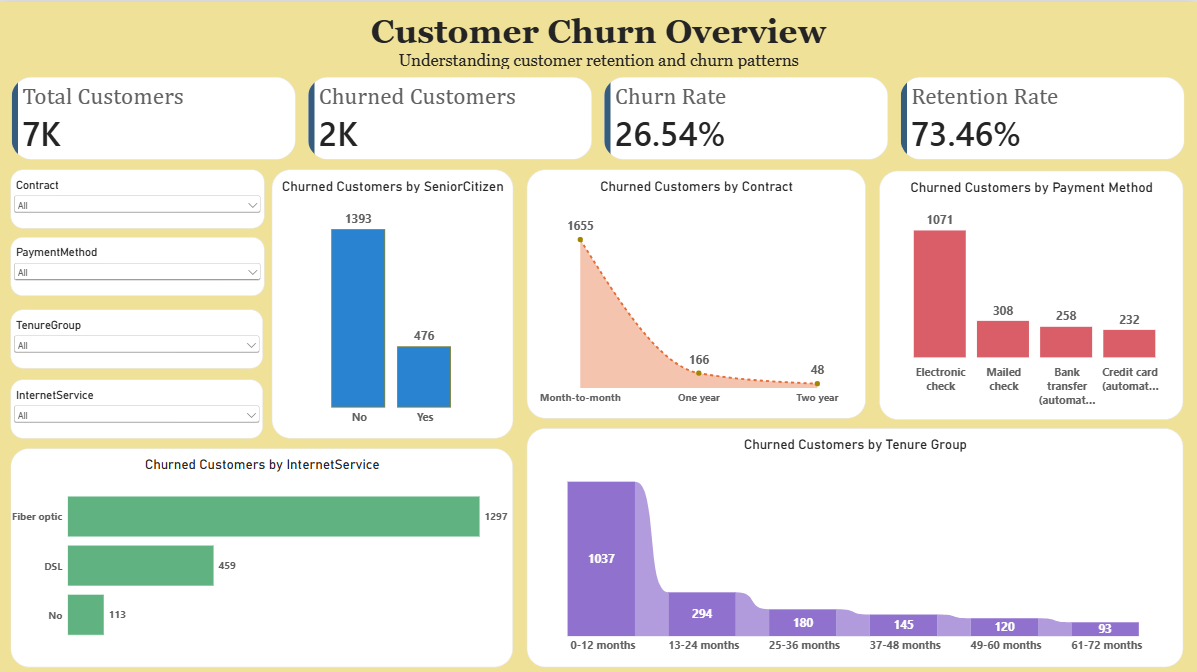

What the dashboard file says about the page in this screenshot:
{"tool":"powerbi","page":{"name":"Customer Churn Overview","canvas":[1920,1080],"ordinal":0},"visuals":[{"type":"cardVisual","fields":{"Data":["telco_customer_churn_cleaned.Total Customers","telco_customer_churn_cleaned.Churned Customers","telco_customer_churn_cleaned.Churn Rate","telco_customer_churn_cleaned.Retention Rate"]},"box":[22,120,1876,132],"z":0},{"type":"areaChart","fields":{"Category":["telco_customer_churn_cleaned.Contract"],"Y":["telco_customer_churn_cleaned.Churned Customers"]},"box":[846,268,542,398],"z":1000},{"type":"ribbonChart","fields":{"Category":["telco_customer_churn_cleaned.Tenure Group1"],"Y":["telco_customer_churn_cleaned.Churned Customers"]},"box":[846,682,1050,382],"z":2000},{"type":"clusteredColumnChart","title":"Churned Customers by Payment Method","fields":{"Category":["telco_customer_churn_cleaned.PaymentMethod"],"Y":["telco_customer_churn_cleaned.Churned Customers"]},"box":[1410,270,486,398],"z":3000},{"type":"clusteredBarChart","fields":{"Category":["telco_customer_churn_cleaned.InternetService"],"Y":["telco_customer_churn_cleaned.Churned Customers"]},"box":[20,714,804,350],"z":4000},{"type":"clusteredColumnChart","fields":{"Category":["telco_customer_churn_cleaned.SeniorCitizen"],"Y":["telco_customer_churn_cleaned.Churned Customers"]},"box":[438,268,386,430],"z":5000},{"type":"slicer","fields":{"Values":["telco_customer_churn_cleaned.Contract"]},"box":[20,268,406,94],"z":6000},{"type":"slicer","fields":{"Values":["telco_customer_churn_cleaned.InternetService"]},"box":[20,604,404,94],"z":7000},{"type":"slicer","fields":{"Values":["telco_customer_churn_cleaned.PaymentMethod"]},"box":[20,376,406,94],"z":8000},{"type":"slicer","fields":{"Values":["telco_customer_churn_cleaned.TenureGroup"]},"box":[20,492,404,94],"z":9000},{"type":"textbox","box":[26,16,1870,104],"z":10000}]}

Visuals, with their boxes in screenshot pixels (x1, y1, x2, y2), scaled from the page's 1920x1080 canvas onto the 1197x672 screenshot:
cardVisual - telco_customer_churn_cleaned.Total Customers x telco_customer_churn_cleaned.Churned Customers: region(14, 75, 1183, 157)
areaChart - telco_customer_churn_cleaned.Contract x telco_customer_churn_cleaned.Churned Customers: region(527, 167, 865, 414)
ribbonChart - telco_customer_churn_cleaned.Tenure Group1 x telco_customer_churn_cleaned.Churned Customers: region(527, 424, 1182, 662)
"Churned Customers by Payment Method" clusteredColumnChart: region(879, 168, 1182, 416)
clusteredBarChart - telco_customer_churn_cleaned.InternetService x telco_customer_churn_cleaned.Churned Customers: region(12, 444, 514, 662)
clusteredColumnChart - telco_customer_churn_cleaned.SeniorCitizen x telco_customer_churn_cleaned.Churned Customers: region(273, 167, 514, 434)
slicer - telco_customer_churn_cleaned.Contract: region(12, 167, 266, 225)
slicer - telco_customer_churn_cleaned.InternetService: region(12, 376, 264, 434)
slicer - telco_customer_churn_cleaned.PaymentMethod: region(12, 234, 266, 292)
slicer - telco_customer_churn_cleaned.TenureGroup: region(12, 306, 264, 365)
textbox: region(16, 10, 1182, 75)
